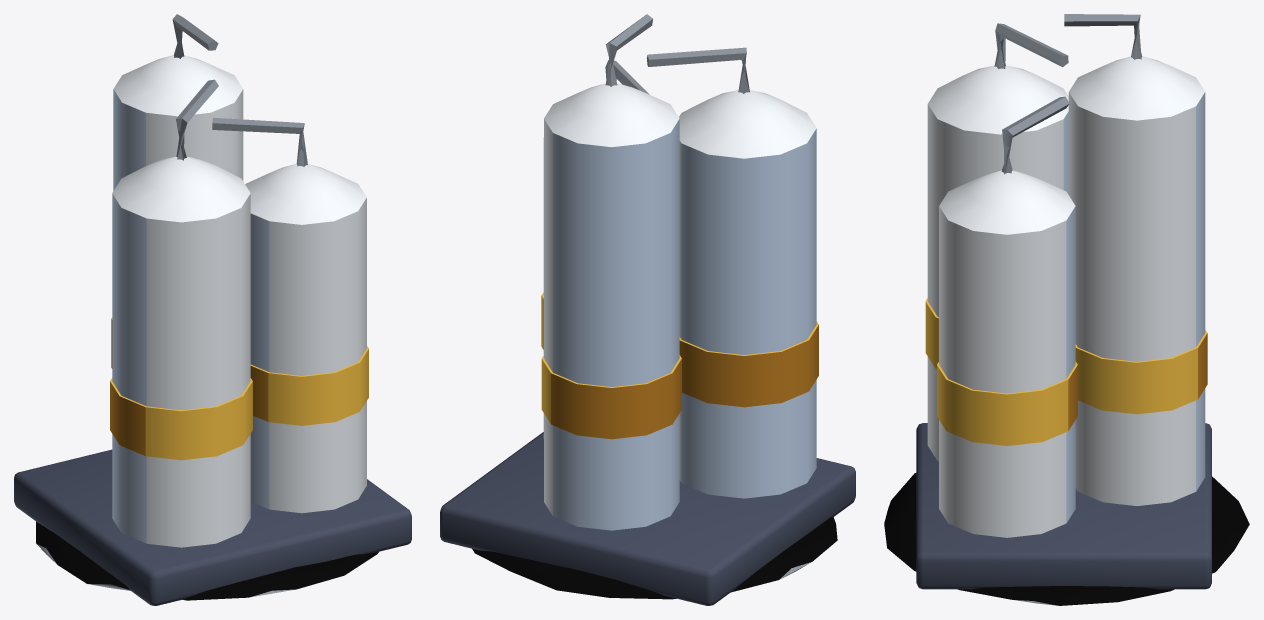
The model's file is FuelTanks.fbx.
3 renders of one model, left to right at view 1: azimuth 30°, elevation 25°; view 2: azimuth 150°, elevation 25°; view 3: azimuth 270°, elevation 25°, orthographic. The views are drawn at different scales.
Parts seen in each view (by area): view 1: FuelTanks; view 2: FuelTanks; view 3: FuelTanks.
Boxes of the visible parts, box(x1,y1,x2,y2) form: FuelTanks: box(14, 14, 411, 605); FuelTanks: box(440, 14, 855, 605); FuelTanks: box(884, 14, 1249, 605).
Bounding box in the file's own units: 1.69 × 2.48 × 1.61.
Materials: 1 (1 with a texture image).
